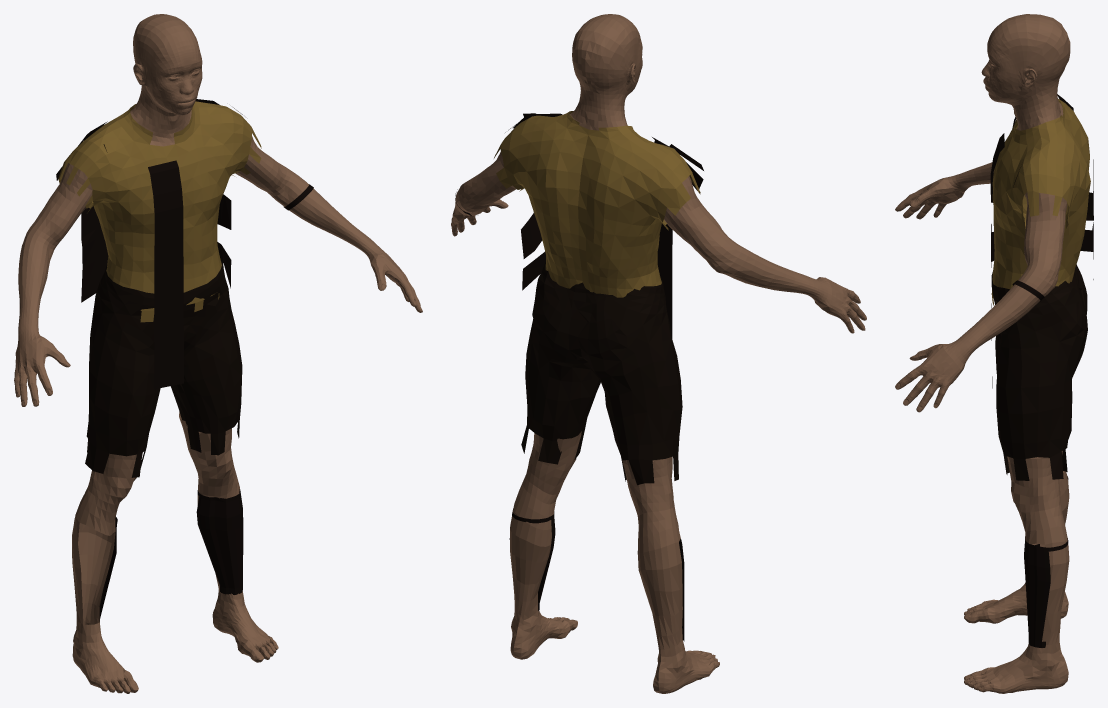
Rendered from fighter1.obj.
The picture shows the model from 3 angles, left to right: view 1: azimuth 30°, elevation 25°; view 2: azimuth 150°, elevation 25°; view 3: azimuth 270°, elevation 25°; orthographic projection.
Visible parts, largest first — view 1: hunude; view 2: hunude; view 3: hunude.
Boxes of the visible parts, box(x1,y1,x2,y2) form: hunude: box(14, 14, 422, 693); hunude: box(451, 14, 866, 693); hunude: box(895, 14, 1093, 693).
Bounding box in the file's own units: 3.09 × 4.72 × 1.34.
